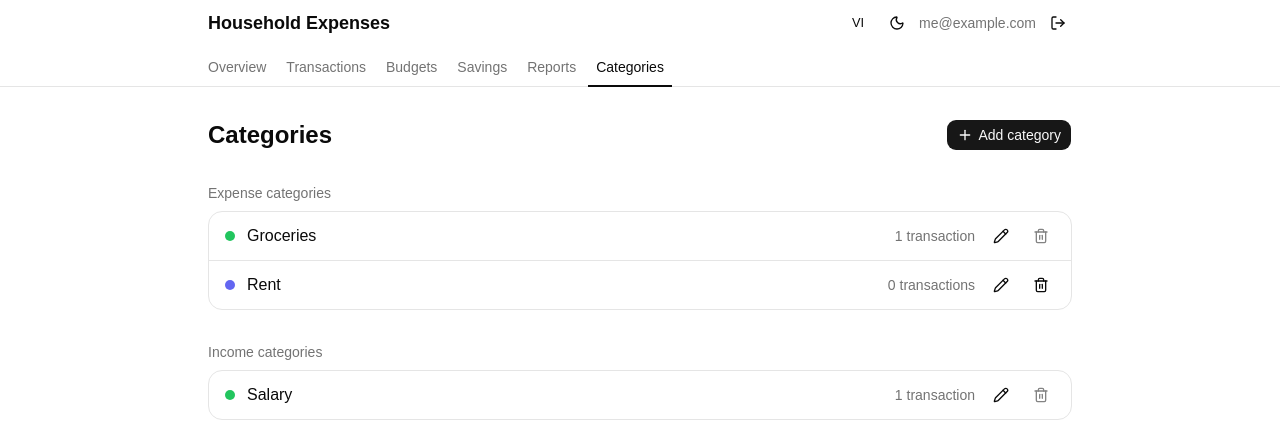
Scenario: icon button tooltips › shows a plain Delete tooltip on a category that is not in use
Hover over the button named "Delete Rent": coordinates (1041, 285) [1027,271,1055,299]
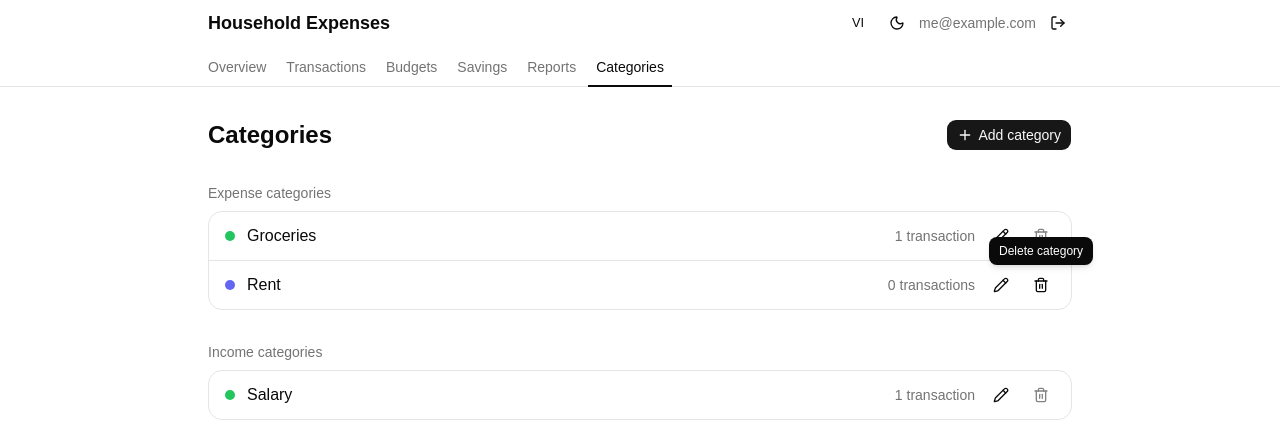
Now the tooltip reads "Delete category", box [999,244,1083,258]
